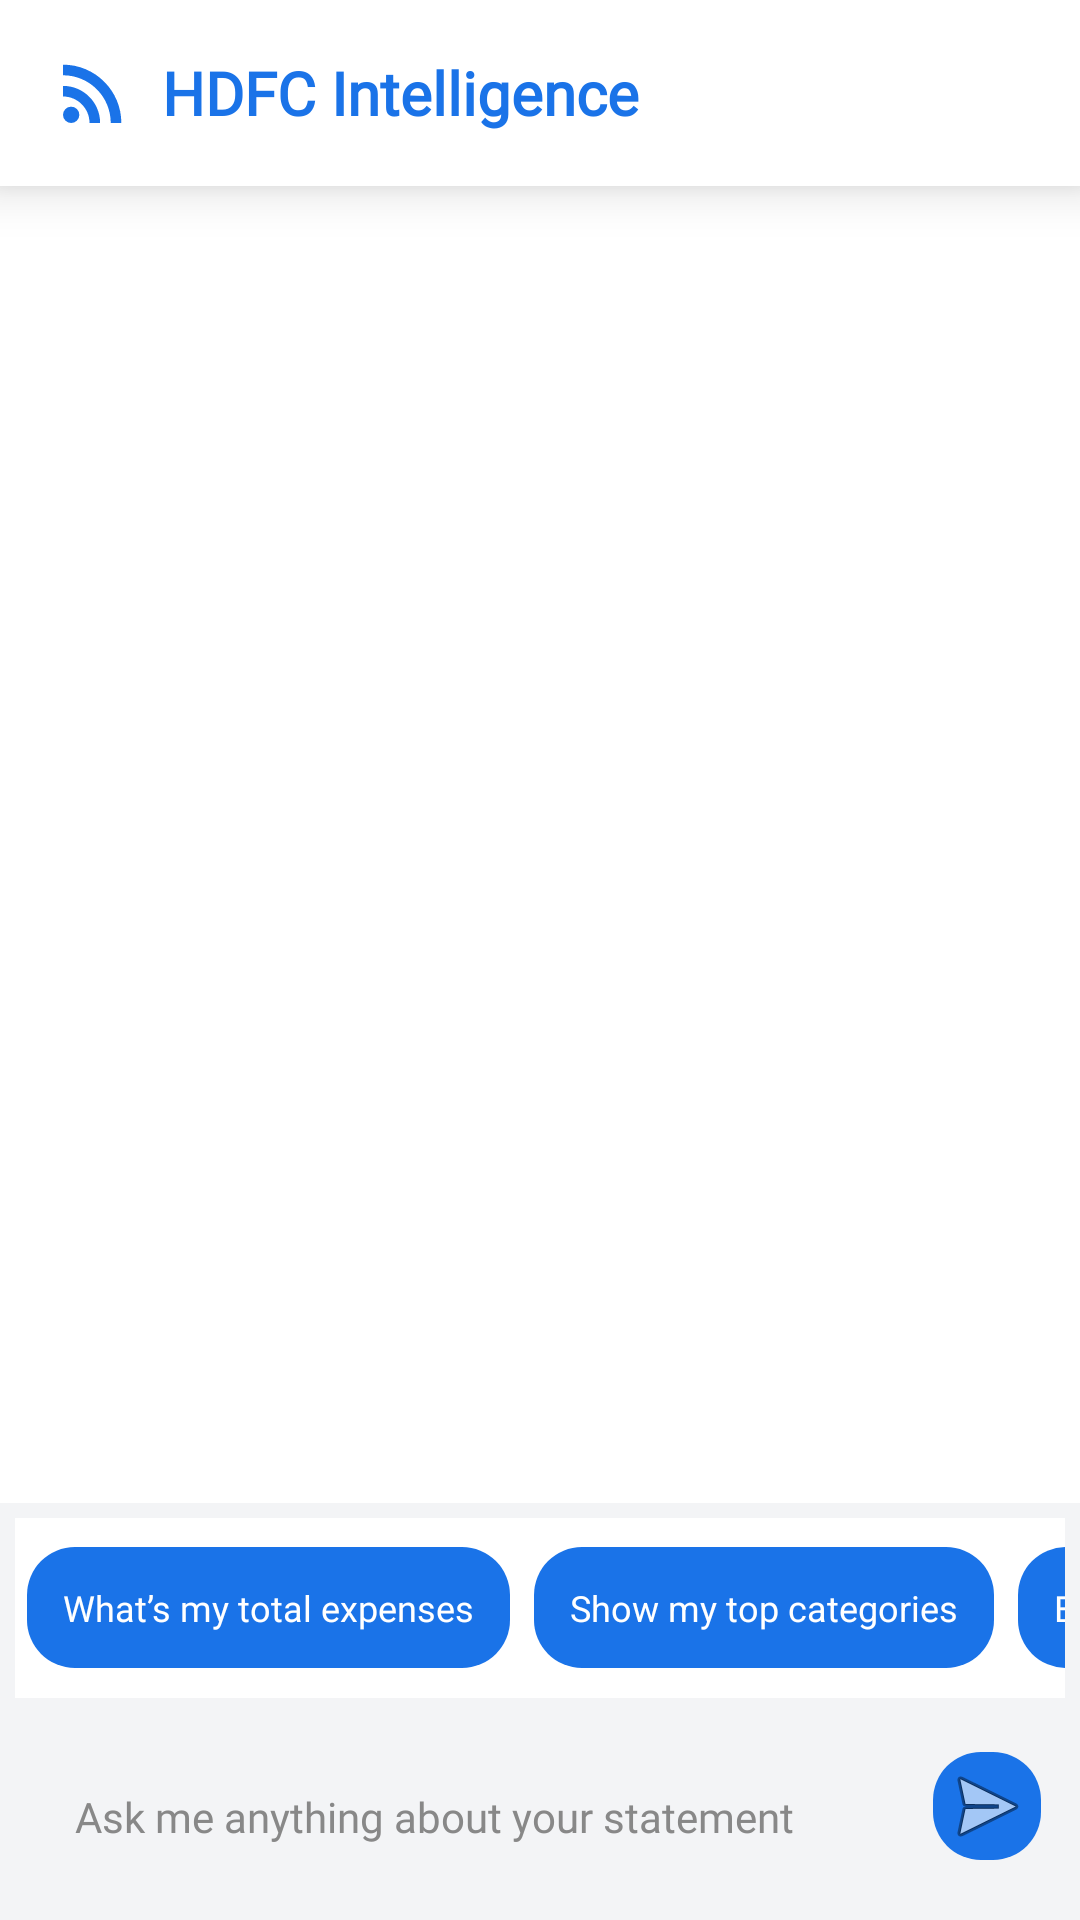

Screen size 1080*1920. Icon name, then its box in pixels as (x1, y1, x2, y2):
Senad Message: (933, 1752, 1041, 1860)
